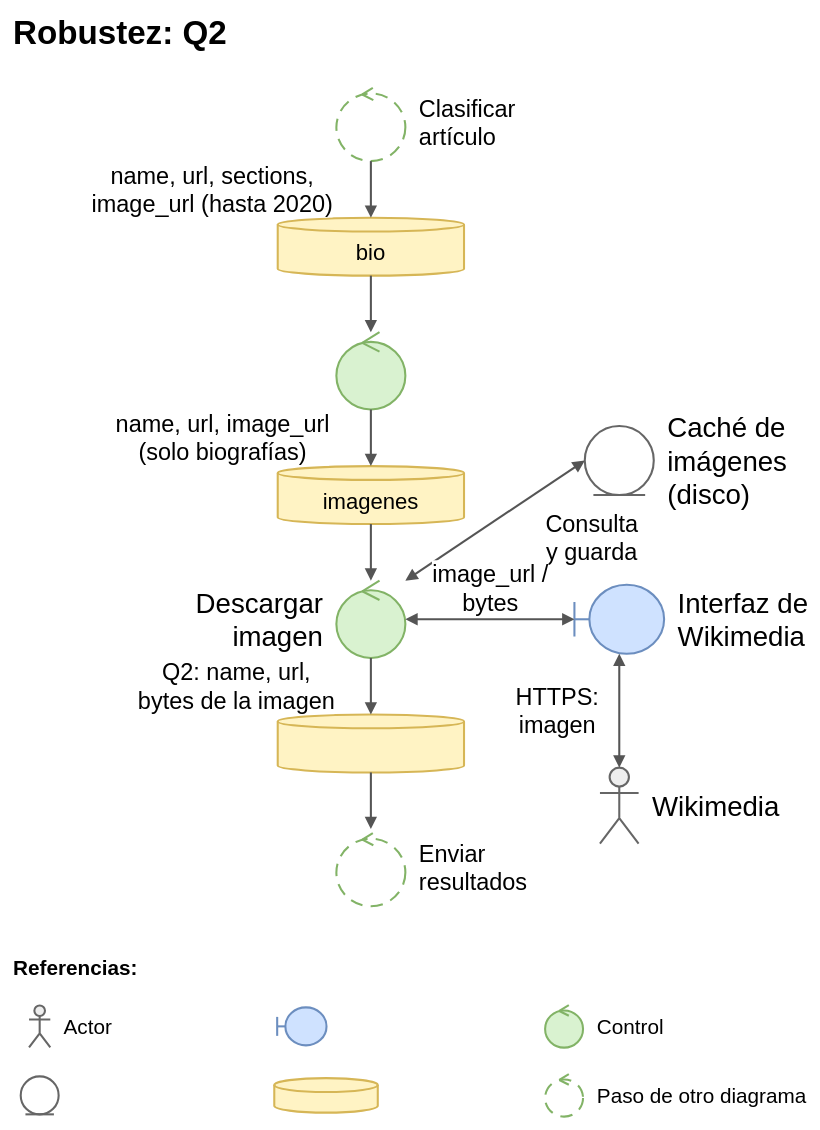
Some shapes in this 820 by 1130 pixel diagram are drawn without their labels. Each missing label, with the centre of its shape:
"Cola" goes at [325,1095].
"Entidad" goes at [39,1095].
"Filtrar biografías" goes at [370,370].
"Interfaz" goes at [301,1026].
"resultados.g" goes at [370,743].
